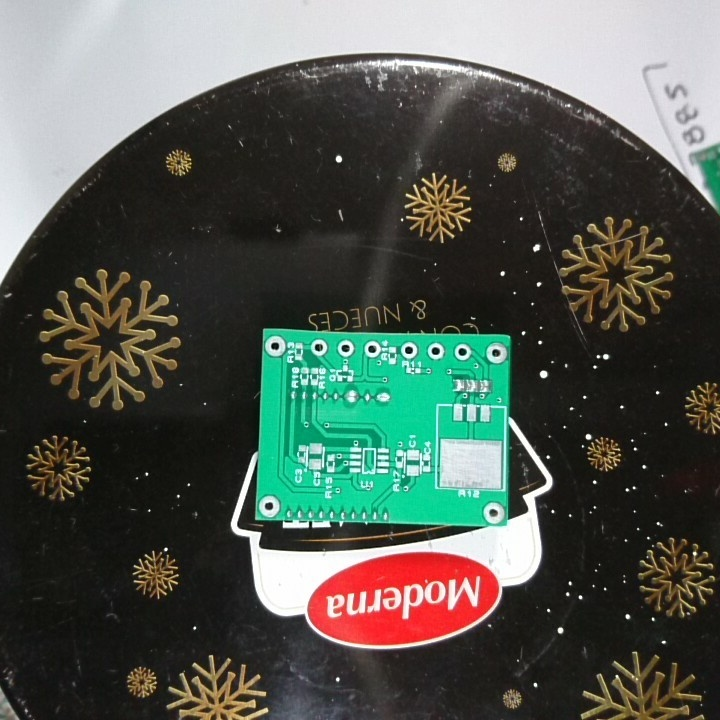F: (483, 340, 508, 367), (263, 335, 288, 359), (482, 501, 505, 526), (258, 495, 282, 518), (425, 342, 447, 364), (452, 342, 473, 364), (310, 337, 330, 360), (362, 340, 382, 360), (399, 340, 417, 361), (337, 338, 355, 358)
P: (374, 389, 394, 406), (342, 388, 361, 405)
